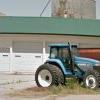Tractor: (30, 34, 100, 93)
